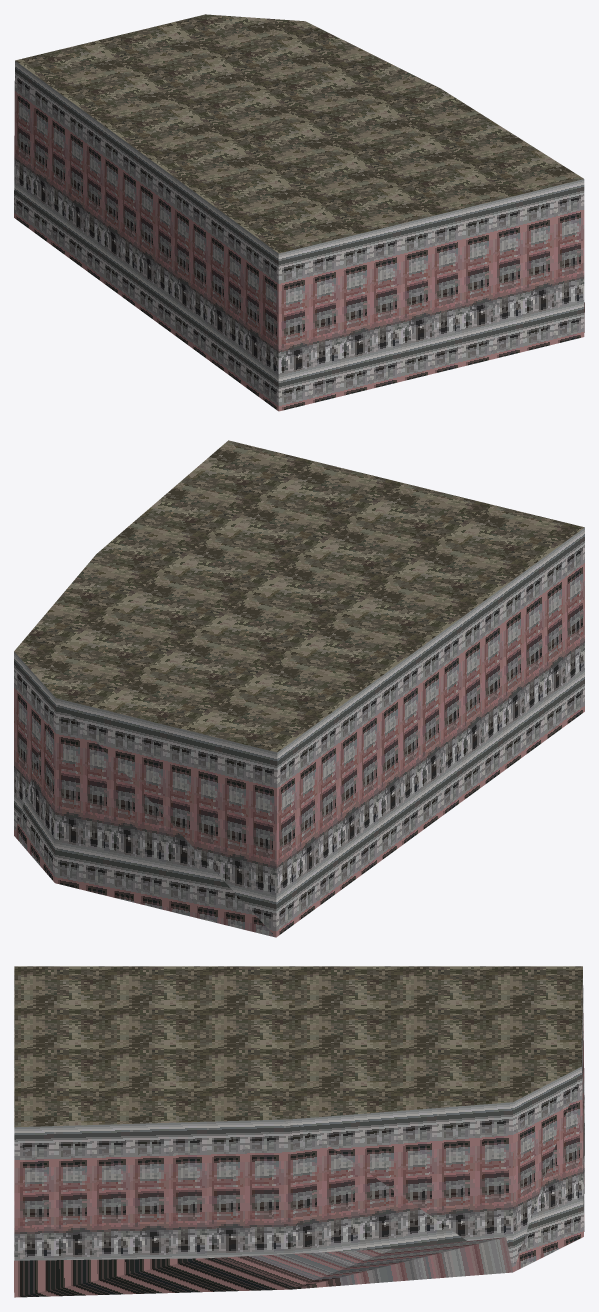
The model's file is lod_sfs023.obj.
3 views of the same model, one above another, from view 1: azimuth 30°, elevation 25°; view 2: azimuth 150°, elevation 25°; view 3: azimuth 270°, elevation 25° (orthographic). The views are drawn at different scales.
Visible parts, largest first — view 1: LOD_sfs023; view 2: LOD_sfs023; view 3: LOD_sfs023.
Part boxes in pixels (box(x1,y1,x2,y2)): LOD_sfs023: box(14, 14, 584, 411); LOD_sfs023: box(14, 440, 584, 937); LOD_sfs023: box(14, 966, 584, 1297).
Size of the model in its own units: 39.99 by 19.72 by 59.92.
Materials: 2 (2 with a texture image).
